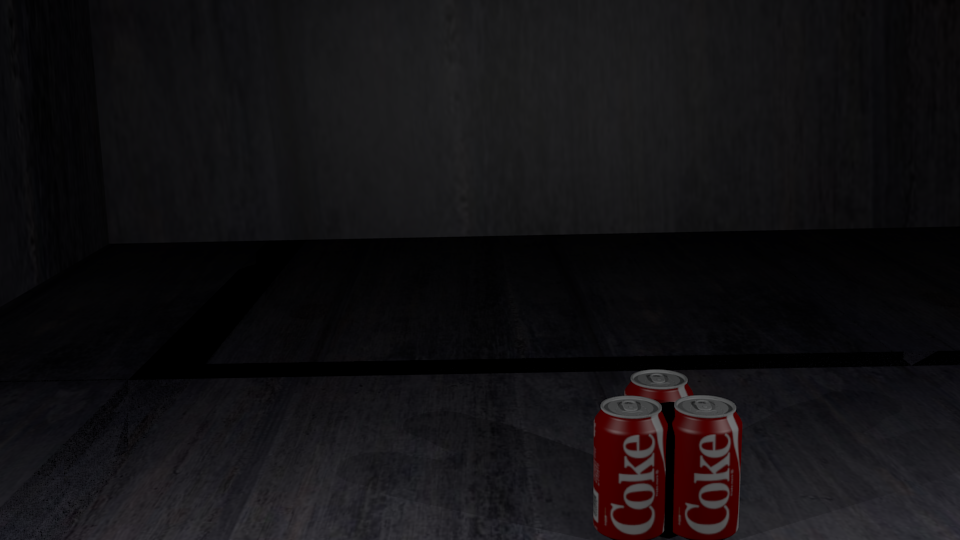cola_can: (594, 396, 667, 537), (667, 396, 741, 535), (625, 370, 692, 501)
